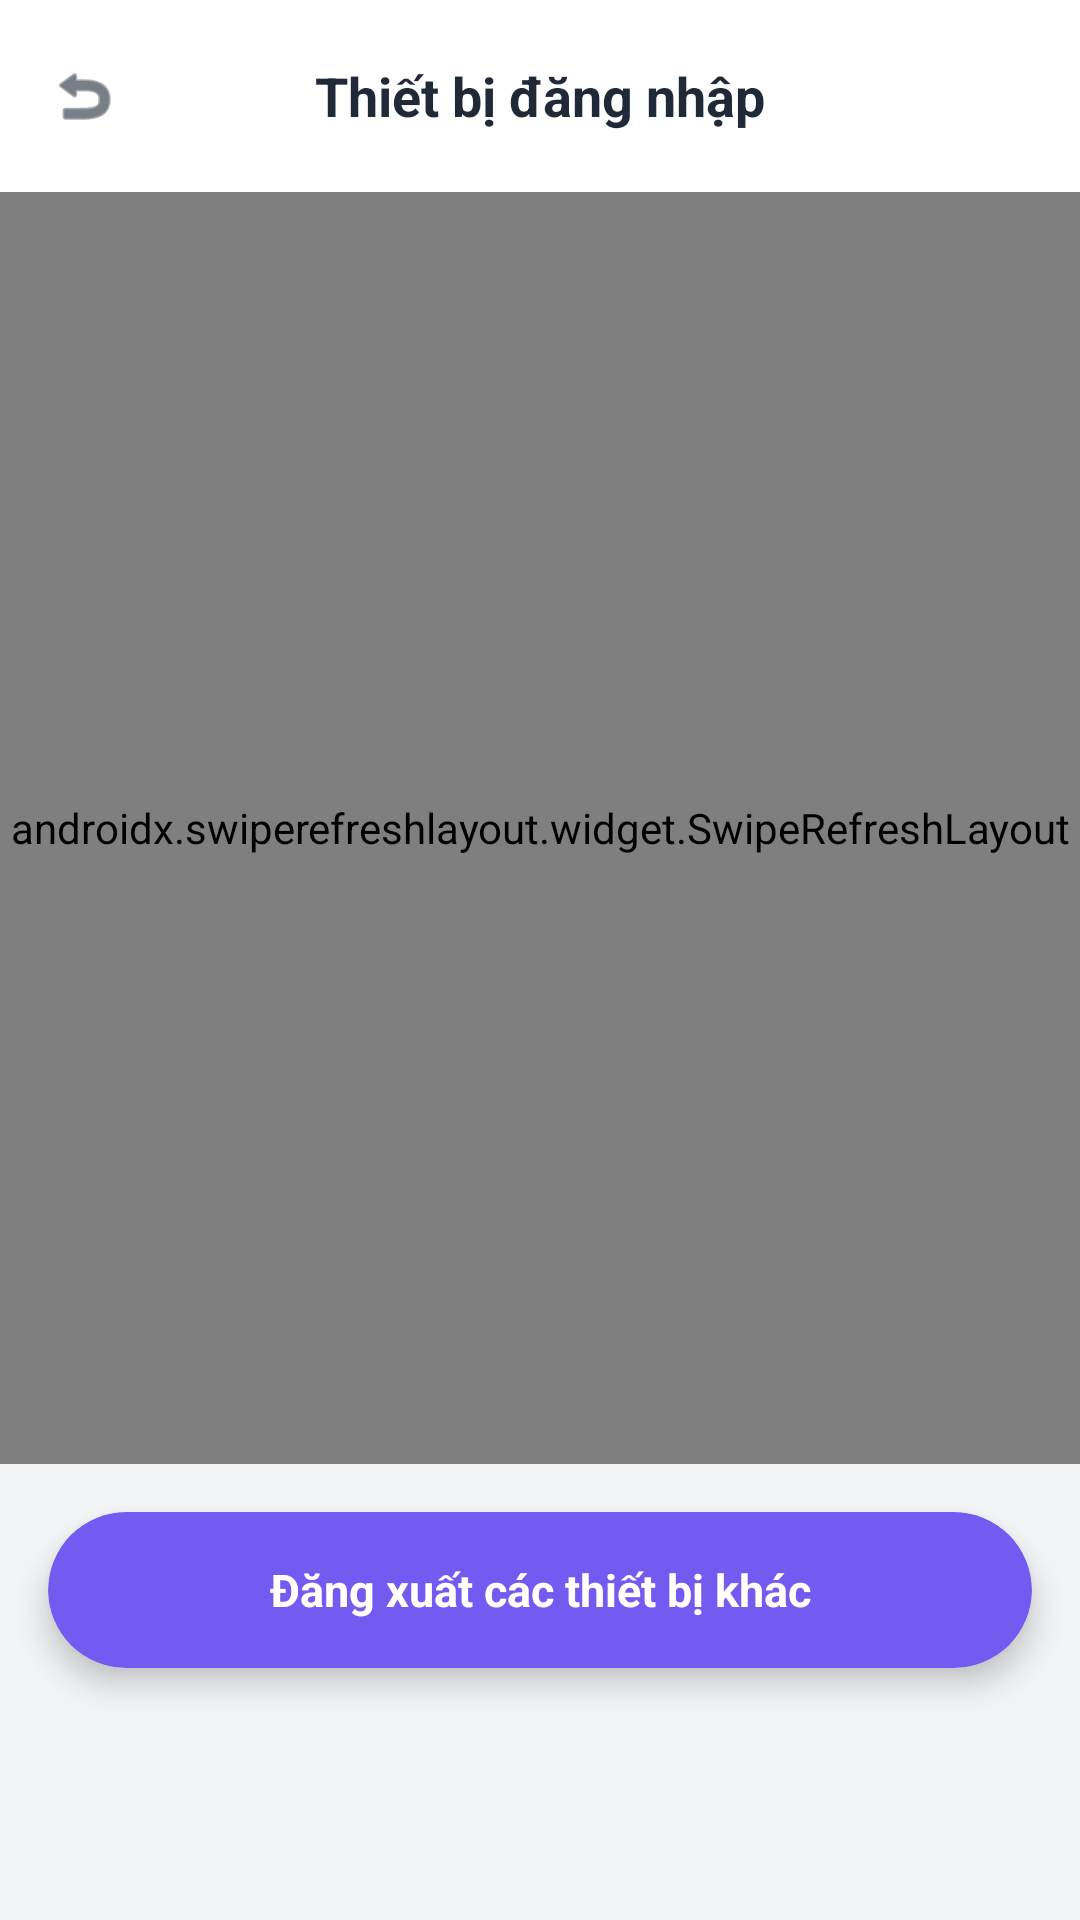

Named icons in this screenshot (1080px×1920px) and their bounding boxes, Rect(x1, y1, x2, y2):
Quay lại: Rect(59, 73, 111, 120)
